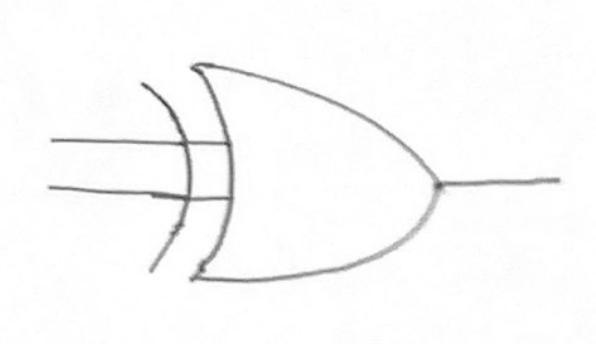XOR: (107, 31, 458, 297)
